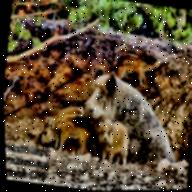boar: (71, 39, 192, 185), (85, 109, 142, 177)
